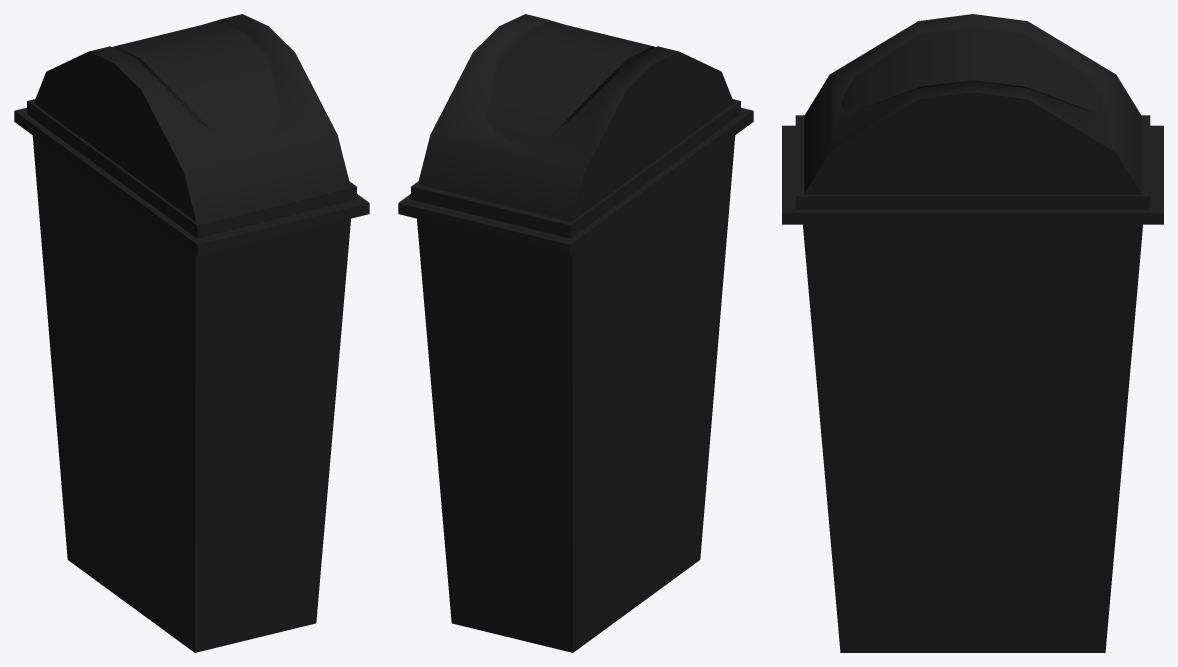
Rendered from LC_3194_Trash_can_E_LOD1.FBX.
The picture shows the model from 3 angles, left to right: view 1: azimuth 30°, elevation 25°; view 2: azimuth 150°, elevation 25°; view 3: azimuth 270°, elevation 25°; orthographic projection. The views are drawn at different scales.
Parts seen in each view (by area): view 1: LC_3194_Trash_can_E_LOD1; view 2: LC_3194_Trash_can_E_LOD1; view 3: LC_3194_Trash_can_E_LOD1.
Part boxes in pixels (x1,y1,x2,y2): LC_3194_Trash_can_E_LOD1: (14, 14, 369, 652); LC_3194_Trash_can_E_LOD1: (398, 14, 753, 652); LC_3194_Trash_can_E_LOD1: (782, 14, 1163, 652).
Size of the model in its own units: 25.51 by 77.44 by 47.09.
1 material, 1 textured.
